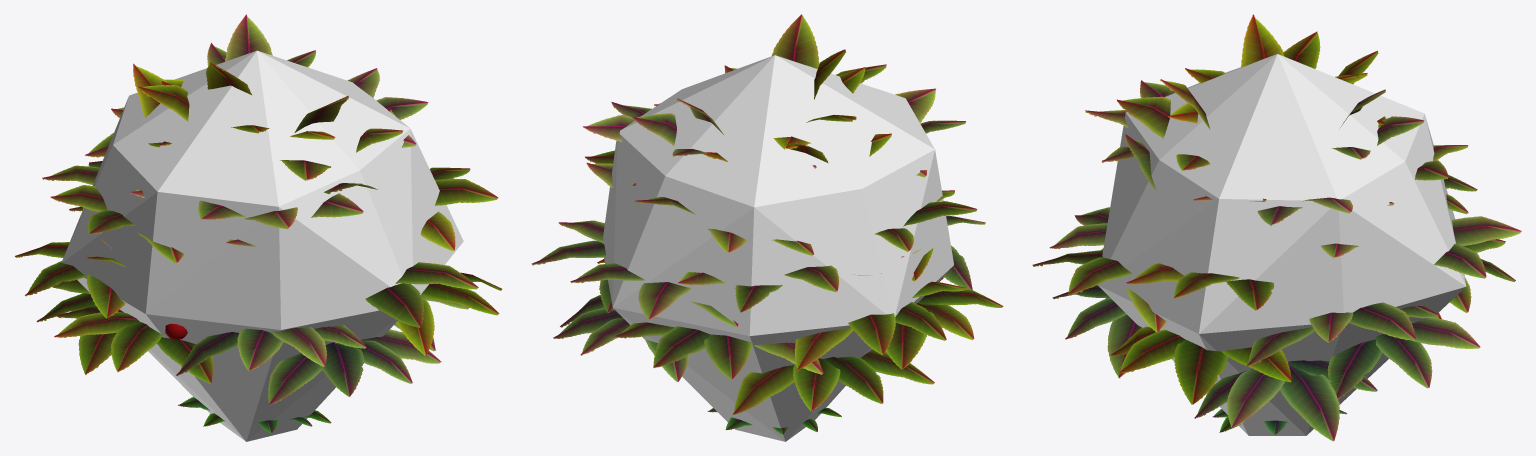
The model's file is IO_FruitBush_A.glb.
3 renders of one model, left to right at view 1: azimuth 30°, elevation 25°; view 2: azimuth 150°, elevation 25°; view 3: azimuth 270°, elevation 25°, orthographic.
Parts seen in each view (by area): view 1: IO_FruitBush_A_COL, IO_FruitBush_A_LOD0; view 2: IO_FruitBush_A_COL, IO_FruitBush_A_LOD0; view 3: IO_FruitBush_A_COL, IO_FruitBush_A_LOD0.
Boxes of the visible parts, box(x1,y1,x2,y2) form: IO_FruitBush_A_COL: box(61, 50, 463, 441); IO_FruitBush_A_LOD0: box(15, 14, 501, 433); IO_FruitBush_A_COL: box(603, 55, 953, 441); IO_FruitBush_A_LOD0: box(531, 14, 1003, 434); IO_FruitBush_A_COL: box(1098, 54, 1466, 435); IO_FruitBush_A_LOD0: box(1032, 14, 1521, 441).
Size of what is drawn, in the model's own units: 1.36 by 1.23 by 1.44.
Materials: 2 (2 with a texture image).
